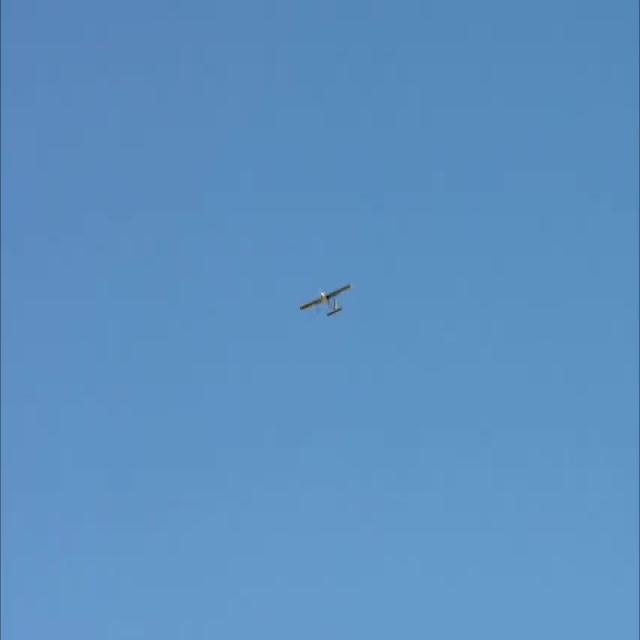iha: (298, 282, 354, 320)
